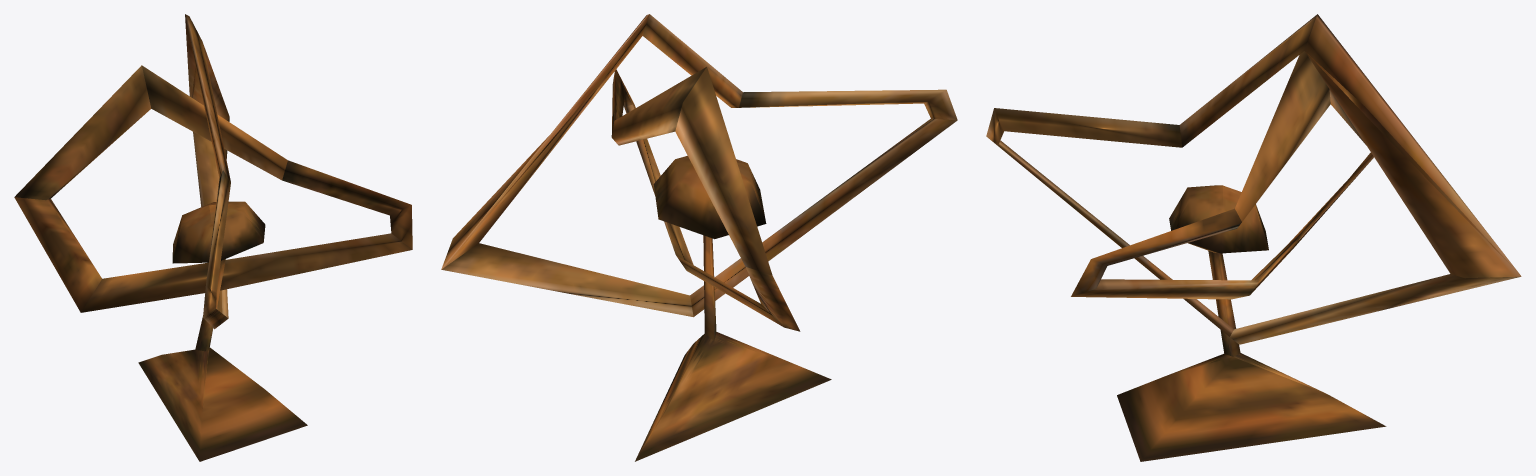
The model's file is frn_quest_sculpture_s01_l3.fbx.
3 renders of one model, left to right at view 1: azimuth 30°, elevation 25°; view 2: azimuth 150°, elevation 25°; view 3: azimuth 270°, elevation 25°, orthographic. The views are drawn at different scales.
Visible parts, largest first — view 1: mesh_node; view 2: mesh_node; view 3: mesh_node.
Part boxes in pixels (x1,y1,x2,y2): mesh_node: (14, 14, 412, 461); mesh_node: (441, 14, 957, 461); mesh_node: (986, 14, 1521, 461).
Size of the model in its own units: 1.22 by 1.6 by 1.84.
